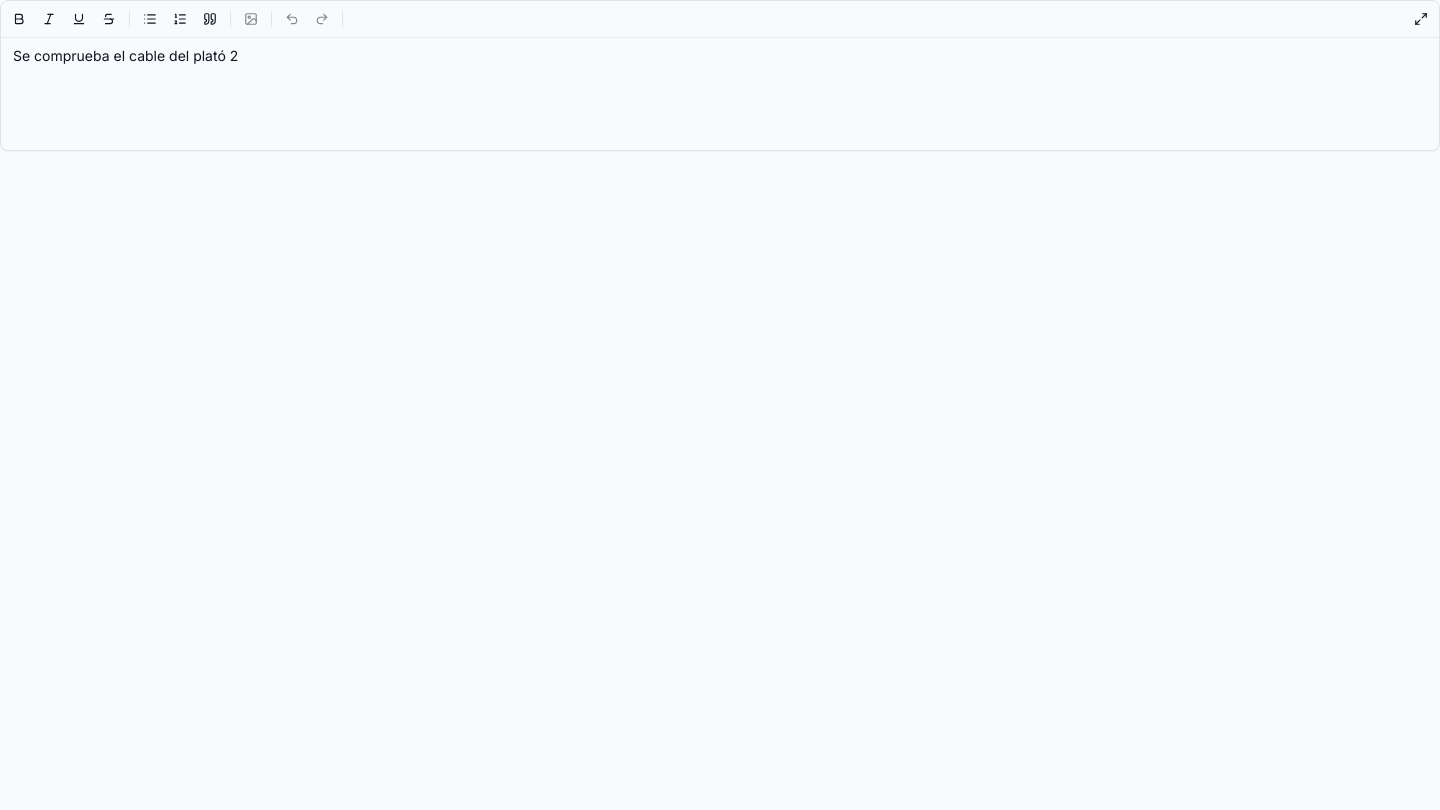
el campo de notas en grande › el botón abre el mismo campo, con su texto, en un diálogo
The width and height of the screenshot is (1440, 810).
Press the mouse on the button named "Escribir en grande" at (1421, 19), box [1407,5,1435,33]
Click the button named "Escribir en grande" at (1421, 19), box [1407,5,1435,33]
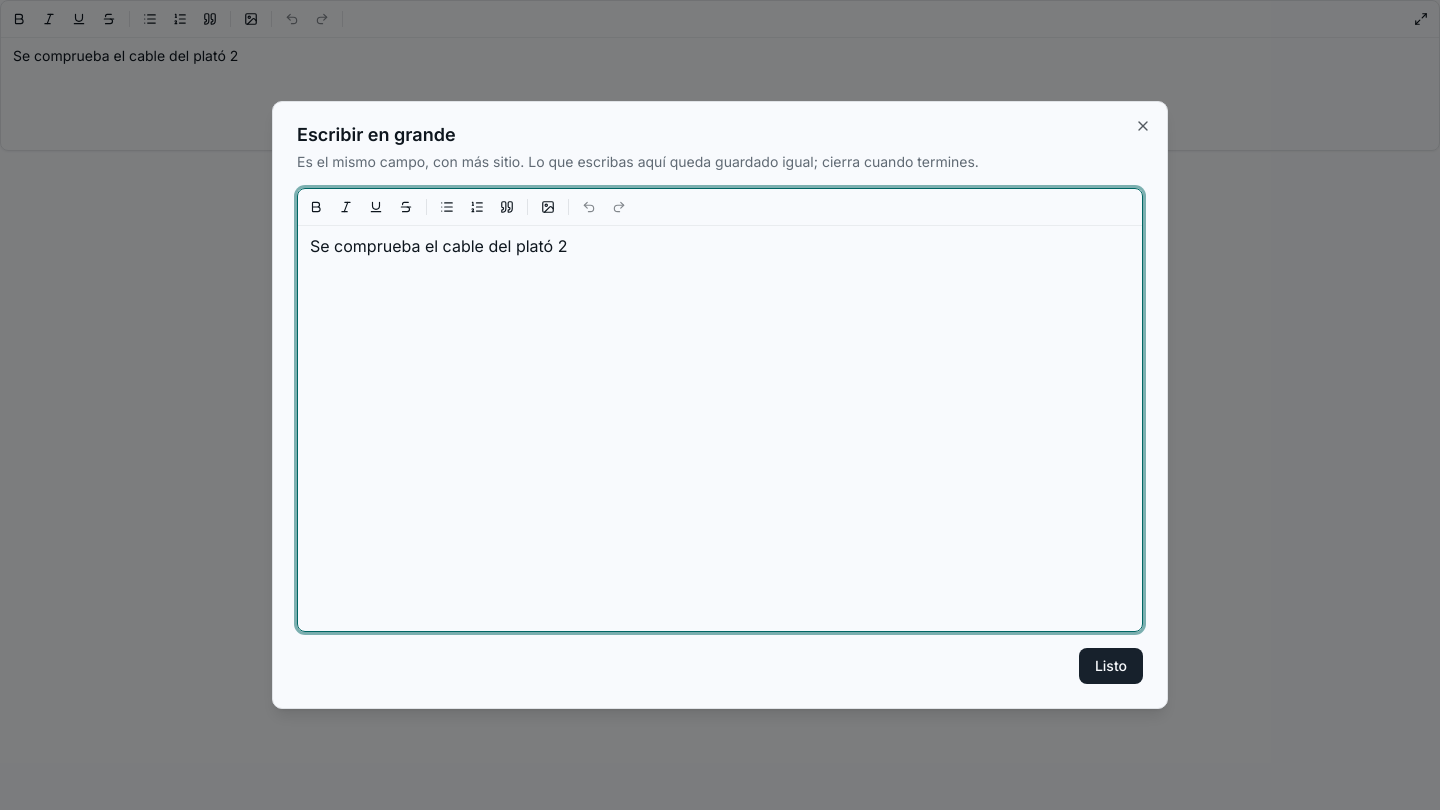
Check: the dialog is shown, box [272,101,1168,709]
Check: the dialog shows "Se comprueba el cable del plató 2", box [310,236,568,256]
